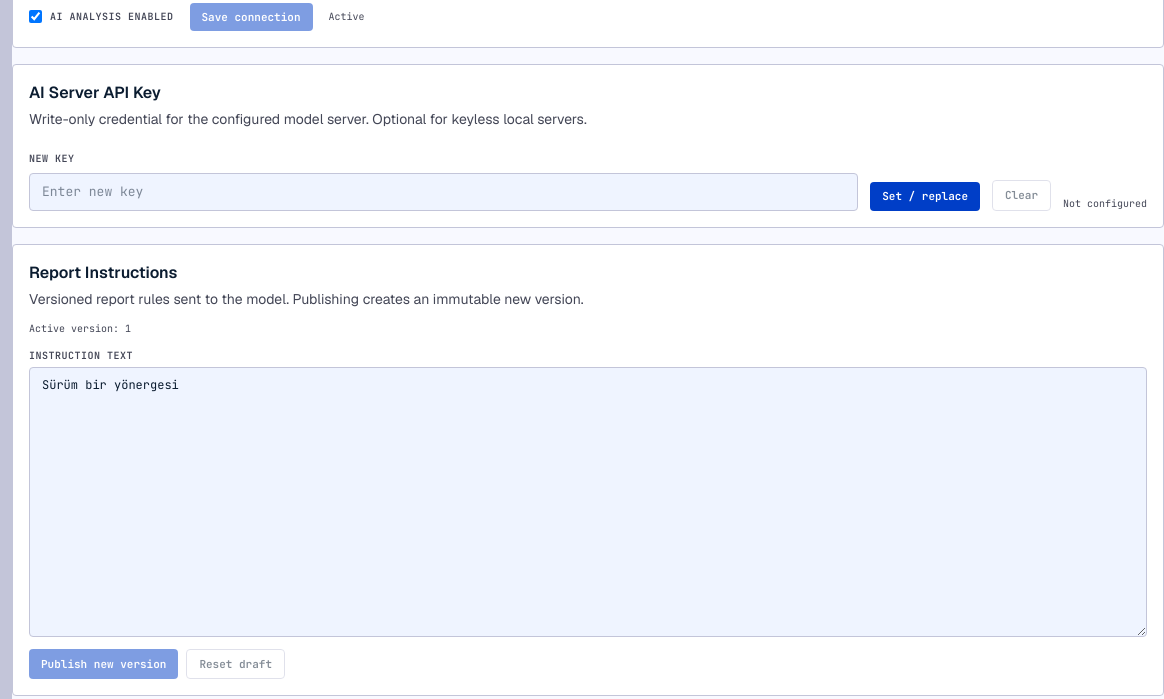
Test: Admin AI settings section › publishes a new instruction version and shows the success state
(page scrolled)
Replace the text in the text box labelled "Instruction text" with "Yeni yönerge" at x=588, y=502, box [29,366,1147,636]
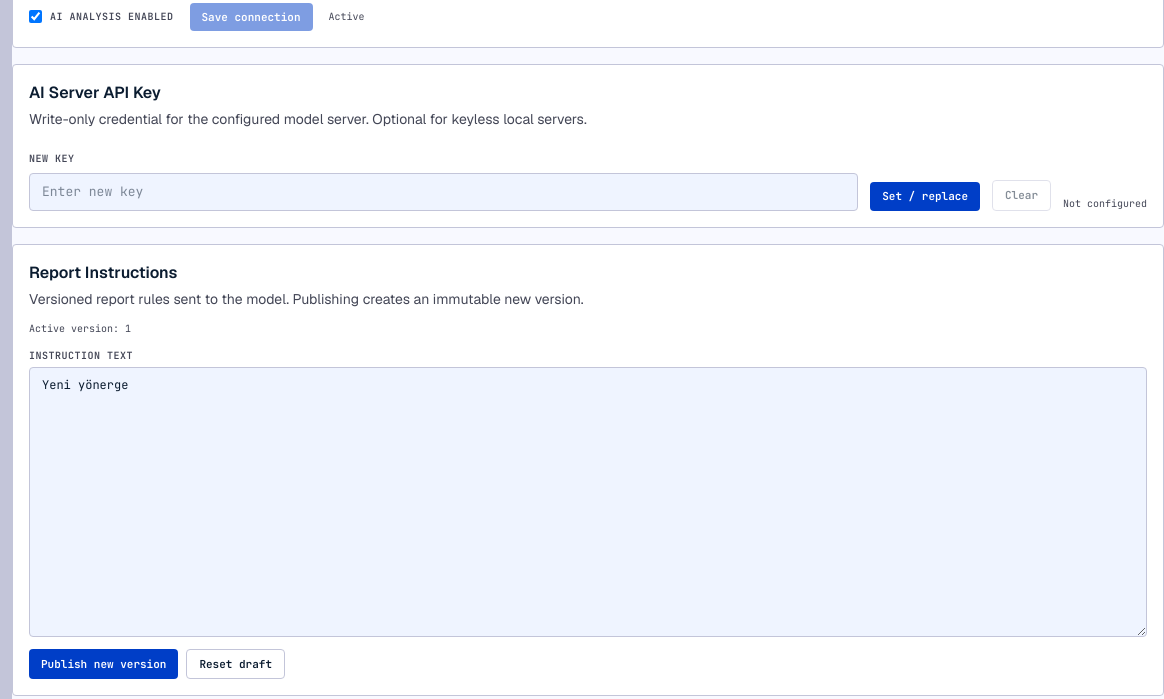
Click the button "Publish new version" at x=104, y=664, box [29,648,178,679]
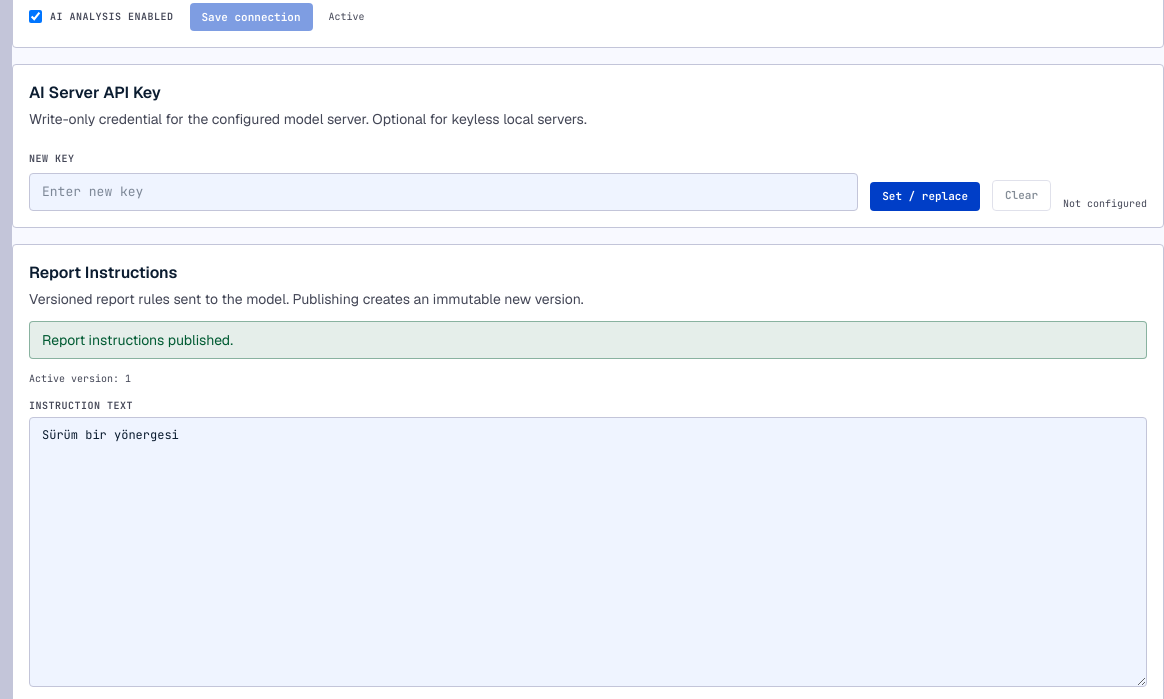
Expected: the text "Active version: 1" is shown, [29,370,131,386]
Now the text "Report instructions published." is shown, box [29,320,1147,358]
